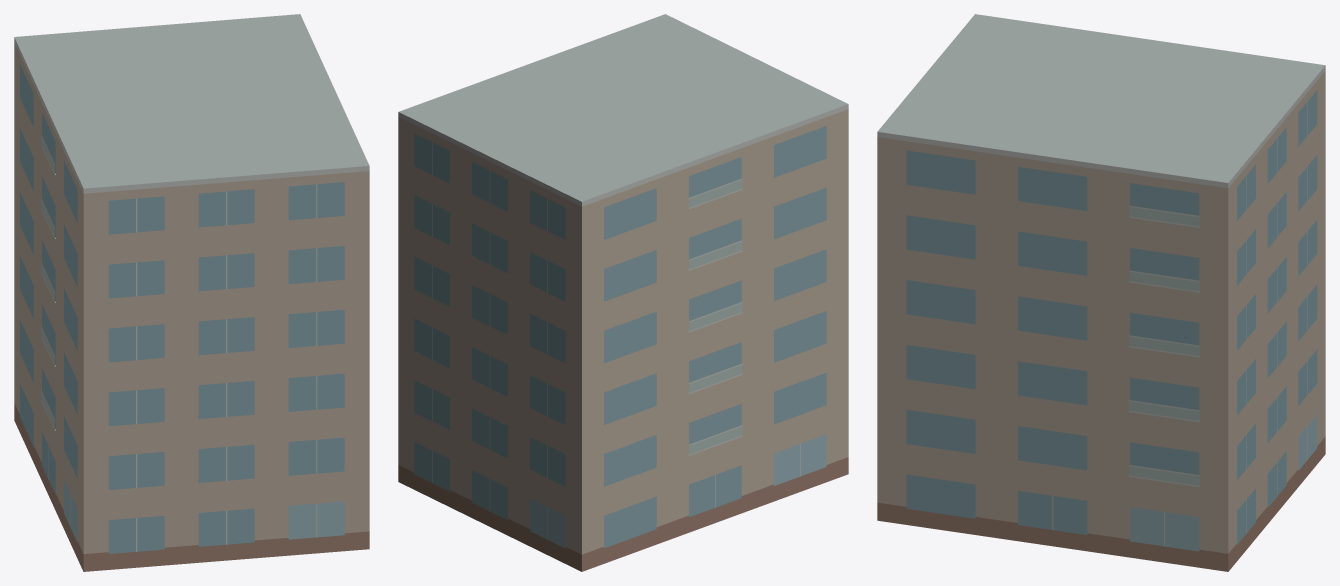
Rendered from survey-upis-32947204.glb.
The picture shows the model from 3 angles, left to right: view 1: azimuth 30°, elevation 25°; view 2: azimuth 150°, elevation 25°; view 3: azimuth 270°, elevation 25°; orthographic projection. The views are drawn at different scales.
Parts seen in each view (by area): view 1: survey-upis-32947204.tmp; view 2: survey-upis-32947204.tmp; view 3: survey-upis-32947204.tmp.
Boxes of the visible parts, <box> form: survey-upis-32947204.tmp: <box>14,14,369,571</box>; survey-upis-32947204.tmp: <box>398,14,848,571</box>; survey-upis-32947204.tmp: <box>877,14,1325,571</box>.
Size of the model in its own units: 17.07 by 18.3 by 19.13.
